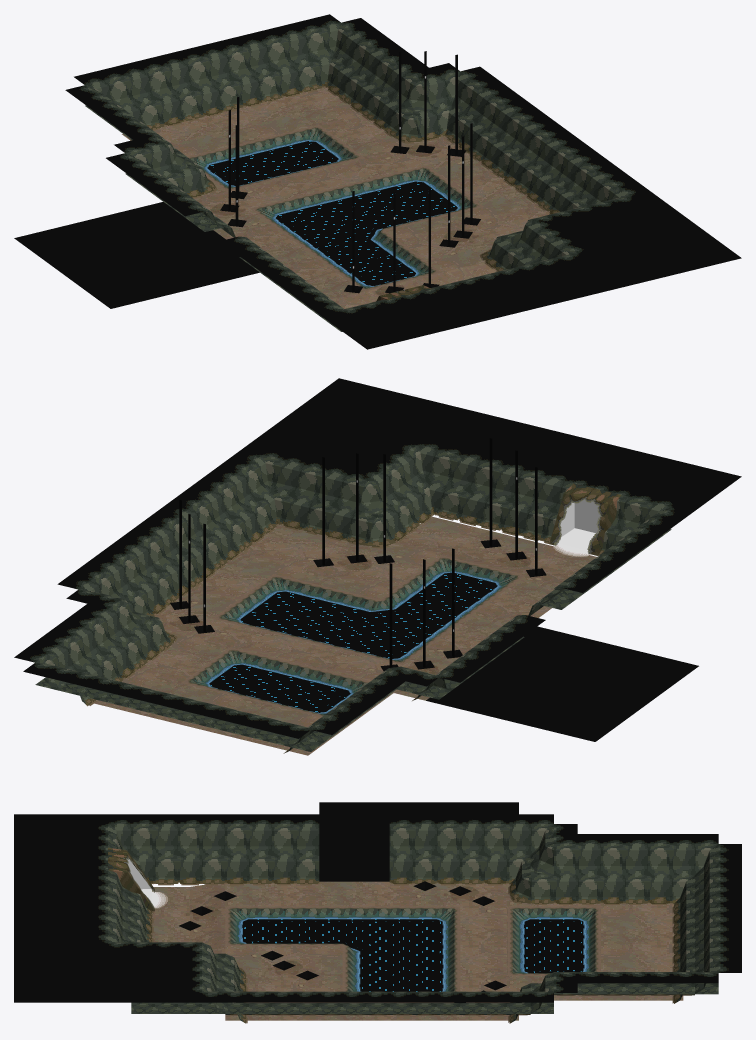
3 renders of one model, top to bottom at view 1: azimuth 30°, elevation 25°; view 2: azimuth 150°, elevation 25°; view 3: azimuth 270°, elevation 25°, orthographic. The views are drawn at different scales.
Visible parts, largest first — view 1: polygon10, polygon15, polygon7, polygon5, polygon9, polygon0, polygon6, polygon14, polygon13, polygon12, polygon11, polygon2; view 2: polygon10, polygon15, polygon7, polygon9, polygon5, polygon0, polygon6, polygon11, polygon14, polygon13, polygon12, polygon4 (+2 smaller); view 3: polygon10, polygon7, polygon15, polygon5, polygon9, polygon11, polygon6, polygon14, polygon13, polygon12, polygon0, polygon4 (+2 smaller).
Part boxes in pixels (<box>): polygon10: <box>14,14,741,349</box>; polygon15: <box>122,87,549,308</box>; polygon7: <box>95,30,618,269</box>; polygon5: <box>85,22,630,311</box>; polygon9: <box>207,141,457,285</box>; polygon0: <box>220,51,480,293</box>; polygon6: <box>145,80,559,271</box>; polygon14: <box>190,128,475,288</box>; polygon13: <box>188,125,483,291</box>; polygon12: <box>203,139,461,287</box>; polygon11: <box>85,105,519,331</box>; polygon2: <box>210,144,478,295</box>; polygon10: <box>14,378,741,741</box>; polygon15: <box>94,516,596,755</box>; polygon7: <box>46,453,660,750</box>; polygon9: <box>209,572,497,712</box>; polygon5: <box>35,445,671,729</box>; polygon0: <box>170,438,546,671</box>; polygon6: <box>82,507,612,753</box>; polygon11: <box>35,508,671,751</box>; polygon14: <box>190,558,516,714</box>; polygon13: <box>181,555,525,716</box>; polygon12: <box>204,570,502,714</box>; polygon4: <box>549,483,620,555</box>; polygon10: <box>14,802,741,1002</box>; polygon7: <box>116,830,718,1019</box>; polygon15: <box>151,881,683,1020</box>; polygon5: <box>108,824,718,1004</box>; polygon9: <box>242,919,584,991</box>; polygon11: <box>131,866,718,1013</box>; polygon6: <box>140,872,694,1023</box>; polygon14: <box>231,909,595,991</box>; polygon13: <box>225,906,600,991</box>; polygon12: <box>237,916,589,991</box>; polygon0: <box>179,881,506,1002</box>; polygon4: <box>108,847,154,911</box>.
Size of the model in its own units: 6.12 by 1.38 by 7.75.
Materials: 16 (16 with a texture image).
